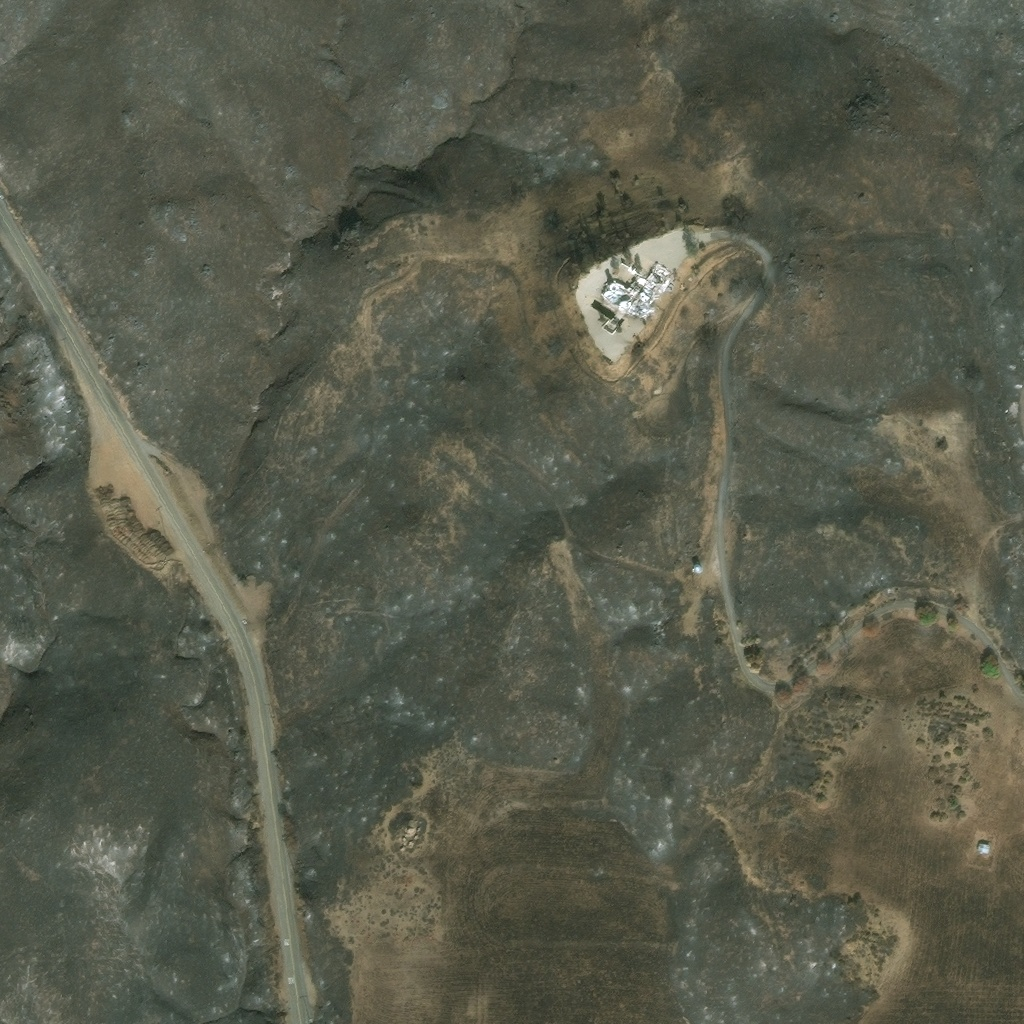0 no-damage: (977, 843, 990, 855), (691, 565, 701, 573)
3 destroyed: (598, 260, 670, 317)
